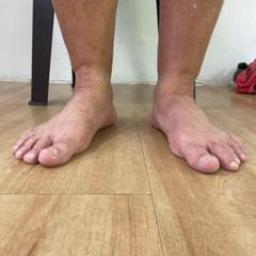Front View -Both Feet-: (4, 46, 251, 193)
